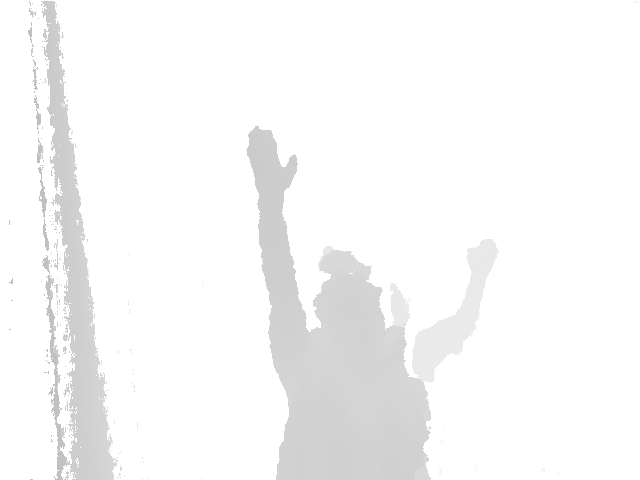hand: (247, 126, 299, 195), (465, 238, 500, 286)
head: (314, 249, 384, 340)
person: (247, 126, 434, 480), (389, 238, 500, 383)
